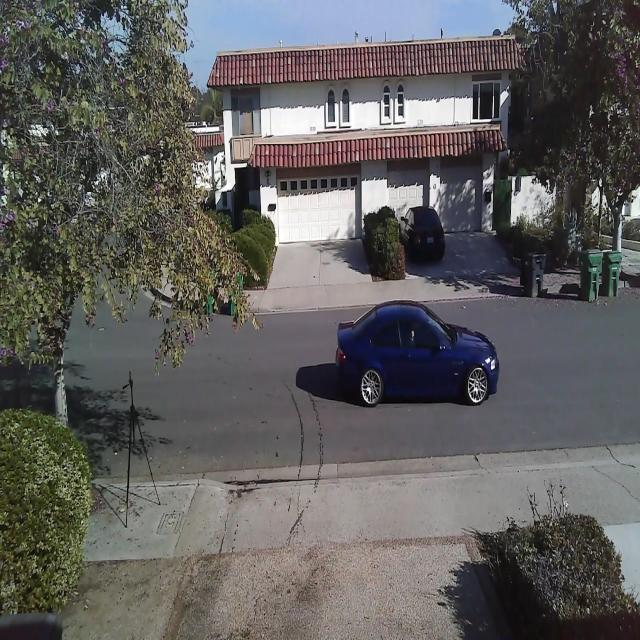Carbeetle: (325, 292, 504, 410)
Civilian: (397, 206, 445, 264)
